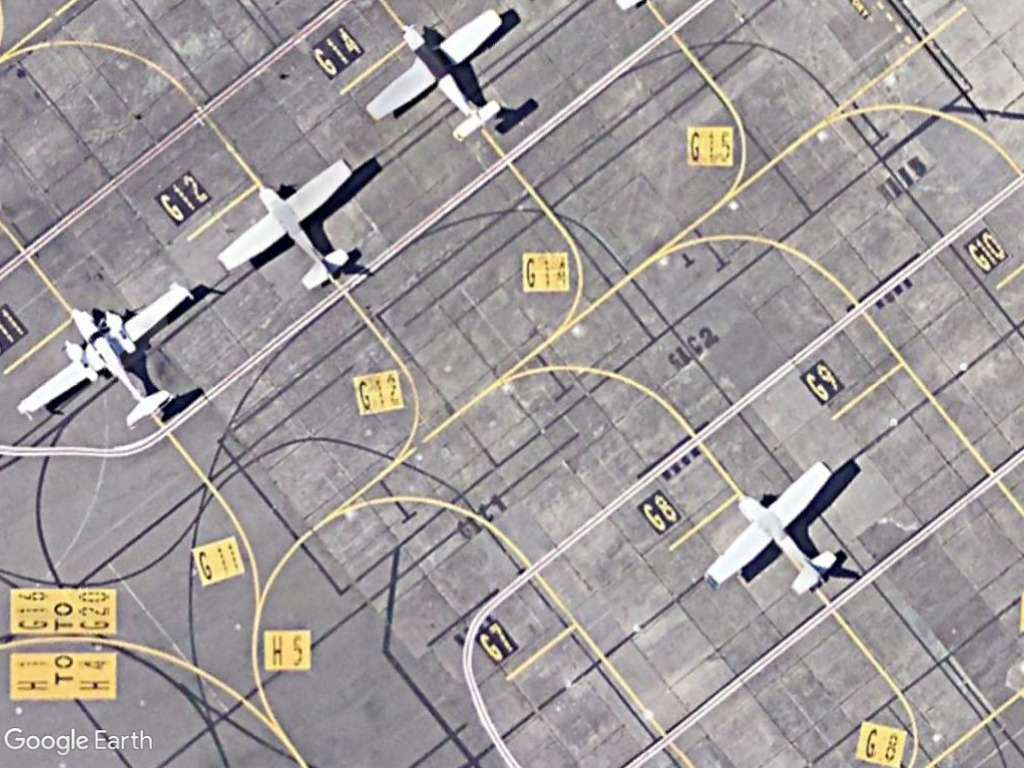propeller: (15, 281, 194, 431)
trainer: (359, 6, 506, 144), (212, 157, 356, 293), (702, 456, 835, 595)
